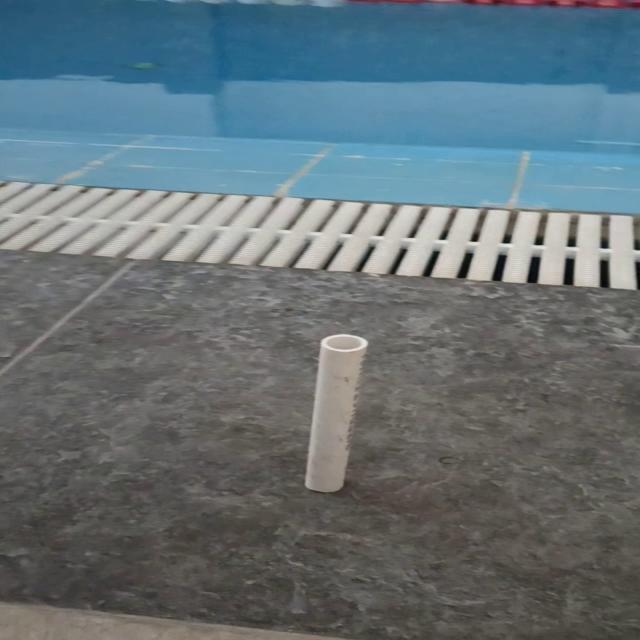Cube: (302, 333, 368, 493)
